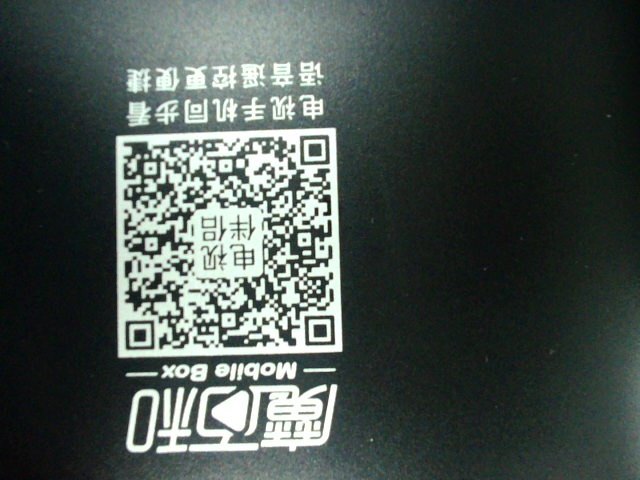AZ_MobileBox: (98, 57, 353, 454)
